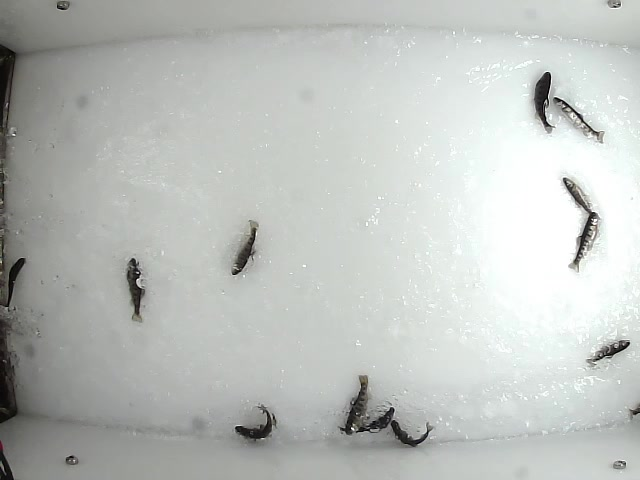fish: (552, 93, 607, 146), (567, 209, 602, 274), (233, 399, 280, 440), (230, 217, 259, 276), (337, 404, 396, 433), (561, 174, 598, 220), (343, 373, 370, 435), (532, 69, 557, 135), (1, 254, 27, 311), (125, 254, 146, 323), (389, 417, 436, 447), (585, 338, 631, 365)
